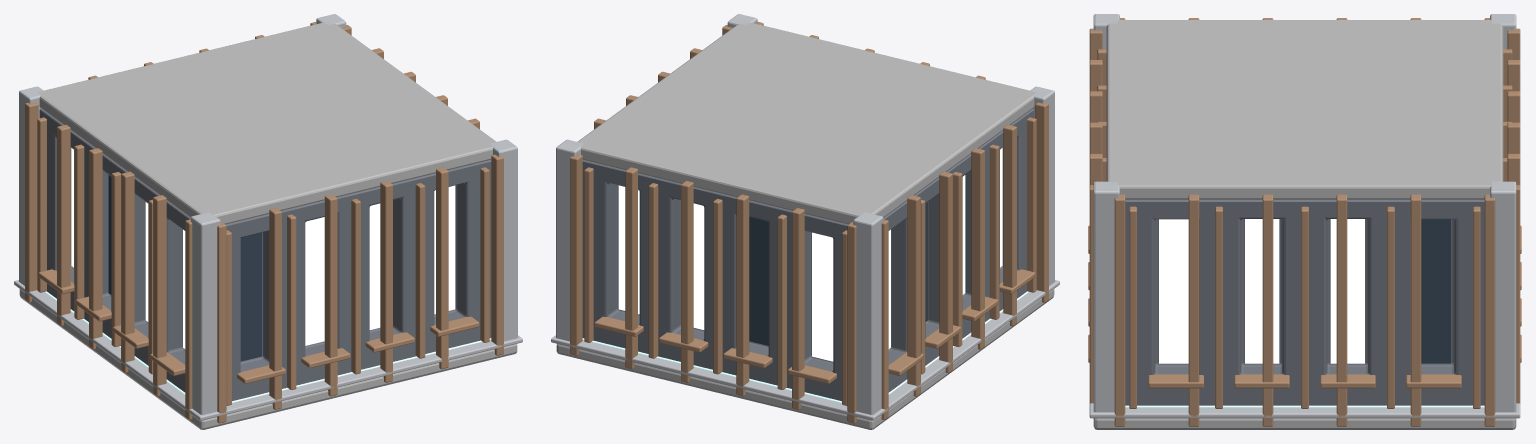
The model's file is deco_3x3.glb.
The picture shows the model from 3 angles, left to right: view 1: azimuth 30°, elevation 25°; view 2: azimuth 150°, elevation 25°; view 3: azimuth 270°, elevation 25°; orthographic projection. The views are drawn at different scales.
Parts seen in each view (by area): view 1: int_ceiling, ext_wall, ext_ribs, ext_frames, int_columns, ext_panes_lit, int_slab_edge, int_slab, ext_panes_dark, int_grid; view 2: int_ceiling, ext_wall, ext_ribs, ext_frames, int_columns, ext_panes_lit, int_slab_edge, int_slab, ext_panes_dark, int_grid; view 3: int_ceiling, ext_wall, ext_ribs, ext_frames, ext_panes_lit, int_columns, int_slab, int_slab_edge, ext_panes_dark, int_grid.
Part boxes in pixels (left/top/right/bottom): int_ceiling: left=37, top=21, right=497, bottom=224; ext_wall: left=39, top=109, right=491, bottom=401; ext_ribs: left=25, top=22, right=503, bottom=423; ext_frames: left=37, top=117, right=489, bottom=405; int_columns: left=19, top=14, right=517, bottom=414; ext_panes_lit: left=71, top=148, right=455, bottom=348; int_slab_edge: left=14, top=280, right=522, bottom=420; int_slab: left=19, top=289, right=517, bottom=429; ext_panes_dark: left=108, top=175, right=261, bottom=361; int_grid: left=45, top=291, right=491, bottom=402; int_ceiling: left=574, top=21, right=1036, bottom=224; ext_wall: left=582, top=109, right=1034, bottom=401; ext_ribs: left=570, top=22, right=1048, bottom=423; ext_frames: left=584, top=117, right=1036, bottom=405; int_columns: left=556, top=14, right=1054, bottom=414; ext_panes_lit: left=618, top=148, right=1002, bottom=361; int_slab_edge: left=551, top=280, right=1059, bottom=420; int_slab: left=556, top=289, right=1054, bottom=429; ext_panes_dark: left=749, top=202, right=928, bottom=345; int_grid: left=582, top=291, right=1028, bottom=402; int_ceiling: left=1106, top=20, right=1503, bottom=199; ext_wall: left=1125, top=199, right=1484, bottom=405; ext_ribs: left=1089, top=18, right=1520, bottom=426; ext_frames: left=1088, top=49, right=1521, bottom=408; ext_panes_lit: left=1159, top=219, right=1364, bottom=363; int_columns: left=1093, top=14, right=1516, bottom=412; int_slab: left=1093, top=418, right=1516, bottom=429; int_slab_edge: left=1089, top=403, right=1520, bottom=418; ext_panes_dark: left=1421, top=219, right=1450, bottom=363; int_grid: left=1125, top=405, right=1484, bottom=407.
Size of the model in its own units: 3.28 by 2 by 3.28.
